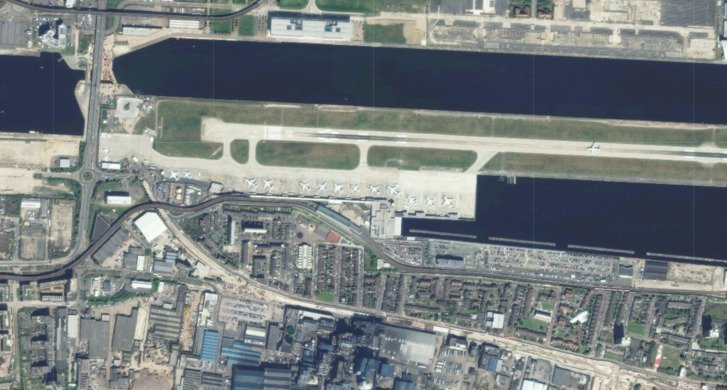aircraft: (584, 140, 603, 158), (330, 181, 346, 197), (387, 180, 401, 198), (368, 182, 383, 197), (316, 180, 329, 196), (441, 193, 453, 210), (407, 194, 419, 209), (167, 169, 181, 181), (350, 181, 361, 196), (243, 176, 256, 188), (298, 181, 310, 191), (424, 195, 433, 207), (262, 177, 271, 188), (185, 171, 192, 179)
